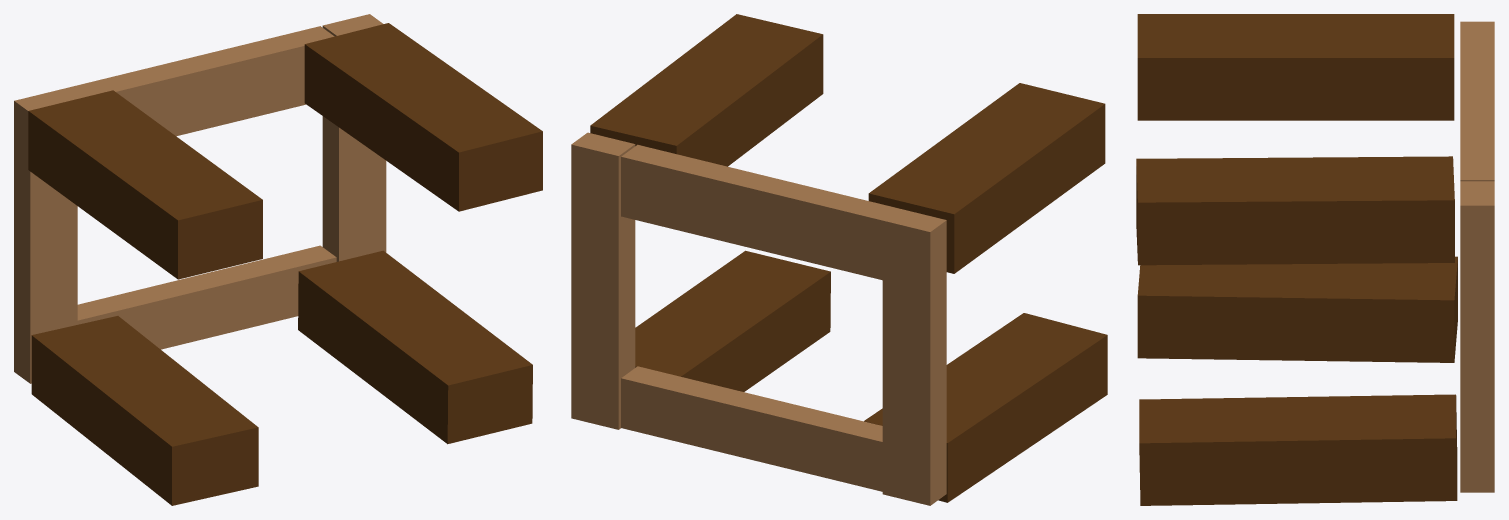
Rendered from tinker.obj.
3 views of the same model, side by side, from view 1: azimuth 30°, elevation 25°; view 2: azimuth 150°, elevation 25°; view 3: azimuth 270°, elevation 25° (orthographic). The views are drawn at different scales.
Visible parts, largest first — view 1: group_0_6306067, group_0_11107152; view 2: group_0_6306067, group_0_11107152; view 3: group_0_6306067, group_0_11107152.
Boxes of the visible parts, left/top/right/bottom form: group_0_6306067: left=28, top=23, right=542, bottom=505; group_0_11107152: left=14, top=14, right=386, bottom=383; group_0_6306067: left=590, top=14, right=1107, bottom=502; group_0_11107152: left=571, top=132, right=946, bottom=505; group_0_6306067: left=1136, top=14, right=1457, bottom=505; group_0_11107152: left=1460, top=21, right=1494, bottom=492.
Bounding box in the file's own units: 157 × 118 × 124.
